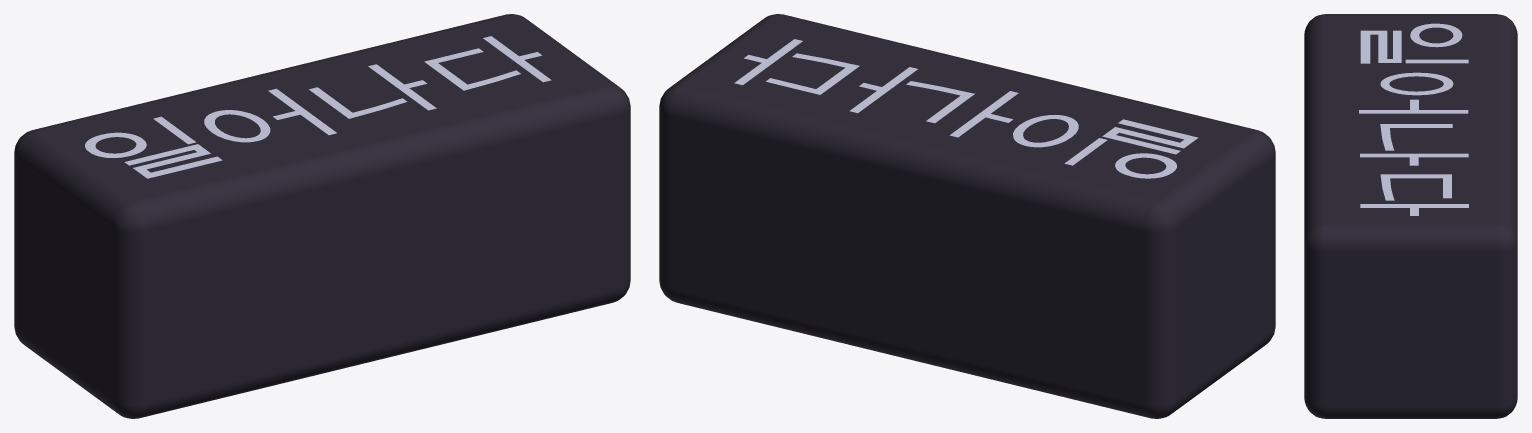
File: get_up.glb
3 views of the same model, side by side, from view 1: azimuth 30°, elevation 25°; view 2: azimuth 150°, elevation 25°; view 3: azimuth 270°, elevation 25° (orthographic). The views are drawn at different scales.
Parts seen in each view (by area): view 1: Cut, Extrude; view 2: Cut, Extrude; view 3: Cut, Extrude.
Boxes of the visible parts, x1,y1,x2,y2 form: Cut: (14, 14, 630, 418); Extrude: (85, 36, 551, 178); Cut: (659, 14, 1275, 418); Extrude: (734, 39, 1198, 178); Cut: (1304, 14, 1517, 418); Extrude: (1359, 23, 1468, 215).
Size of the model in its own units: 5 by 2 by 2.
